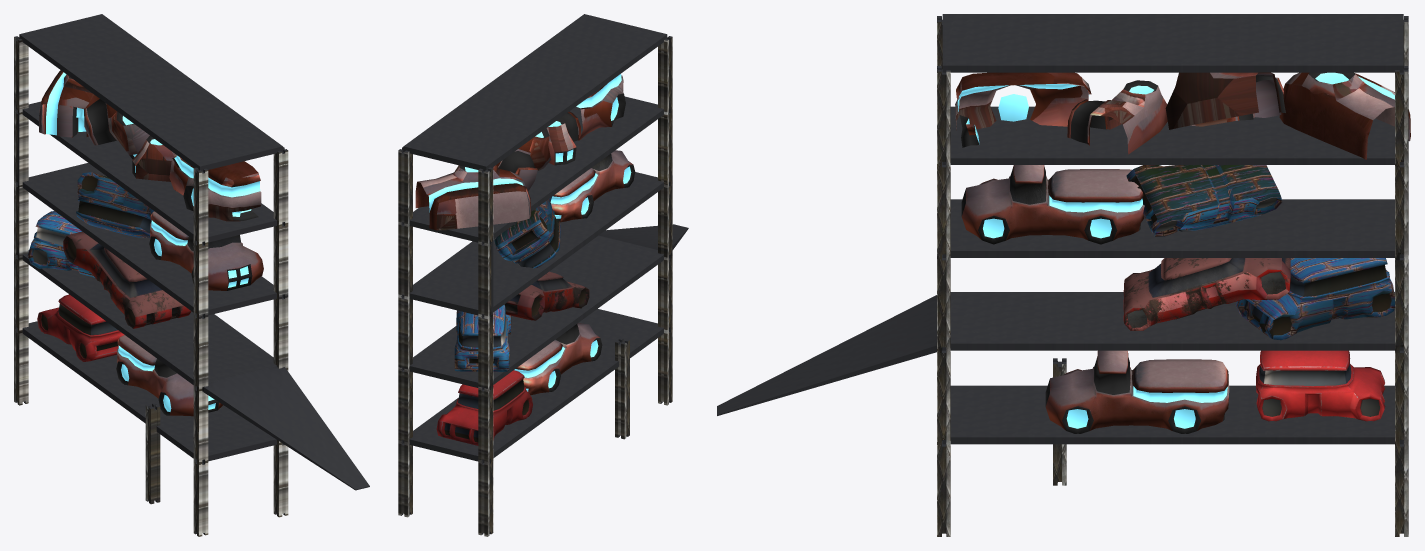
Rendered from Car Storage Rack.glb.
3 views of the same model, side by side, from view 1: azimuth 30°, elevation 25°; view 2: azimuth 150°, elevation 25°; view 3: azimuth 270°, elevation 25° (orthographic). The views are drawn at different scales.
Visible parts, largest first — view 1: Car Storage Rack; view 2: Car Storage Rack; view 3: Car Storage Rack.
Part boxes in pixels (x1,y1,x2,y2): Car Storage Rack: [14, 14, 369, 536]; Car Storage Rack: [398, 14, 688, 536]; Car Storage Rack: [717, 14, 1410, 536].
Size of what is drawn, in the model's own units: 8.02 by 28.88 by 38.69.
Materials: 10 (7 with a texture image).
